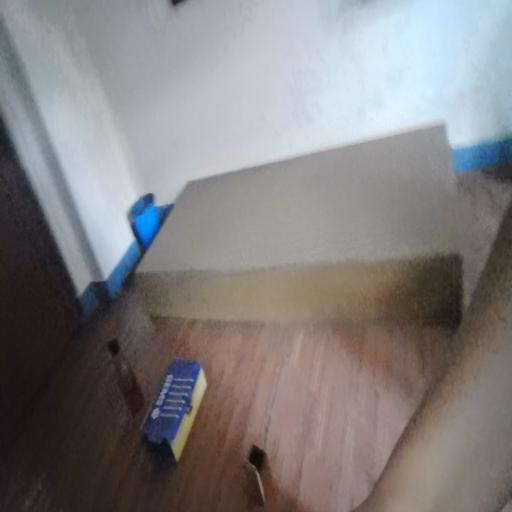Bottle: (107, 333, 143, 403)
